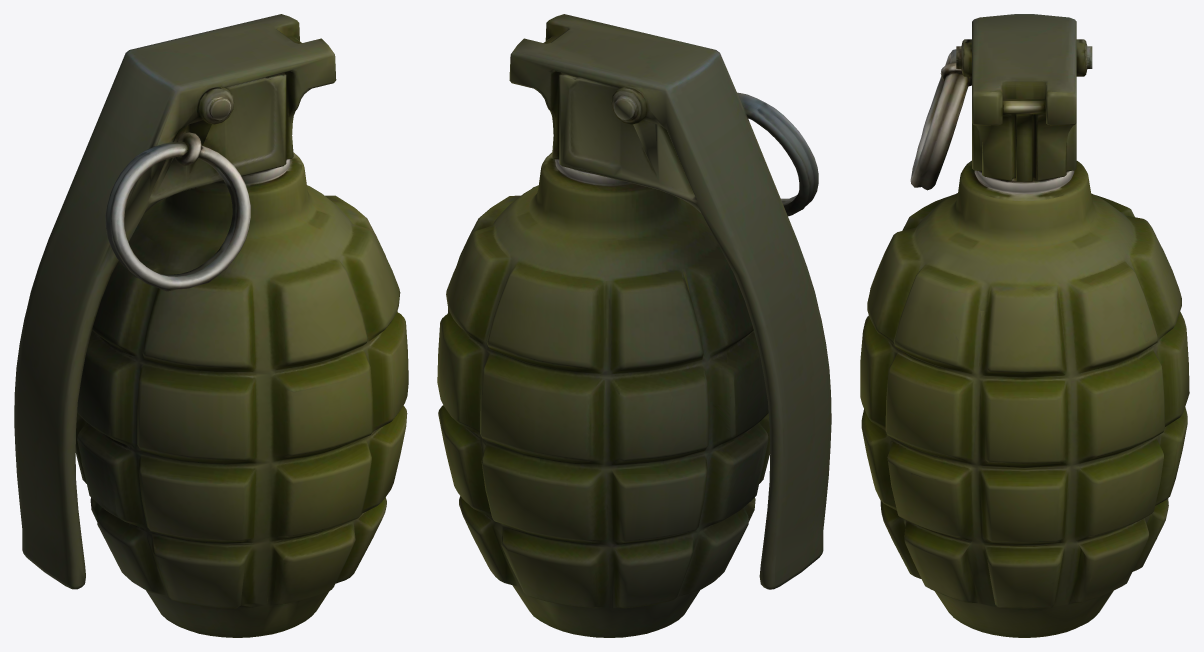
The model's file is Weapons__grenade_d45ac7d5_v4.cluster.glb.
3 views of the same model, side by side, from view 1: azimuth 30°, elevation 25°; view 2: azimuth 150°, elevation 25°; view 3: azimuth 270°, elevation 25° (orthographic).
Parts seen in each view (by area): view 1: texture_pbr_20250901; view 2: texture_pbr_20250901; view 3: texture_pbr_20250901.
Part boxes in pixels (left/top/right/bottom): texture_pbr_20250901: left=14, top=14, right=408, bottom=637; texture_pbr_20250901: left=437, top=14, right=831, bottom=637; texture_pbr_20250901: left=860, top=14, right=1189, bottom=637.
Bounding box in the file's own units: 1.23 × 1.9 × 1.03.
Materials: 1 (1 with a texture image).
